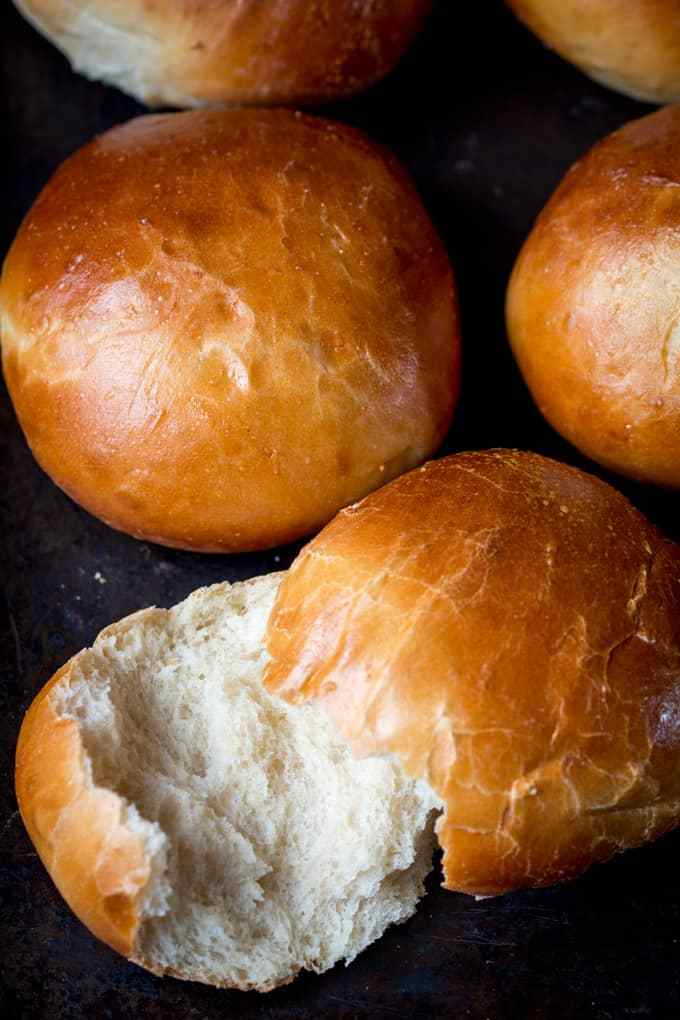hamburger_buns: (32, 446, 680, 990), (4, 100, 478, 557)
